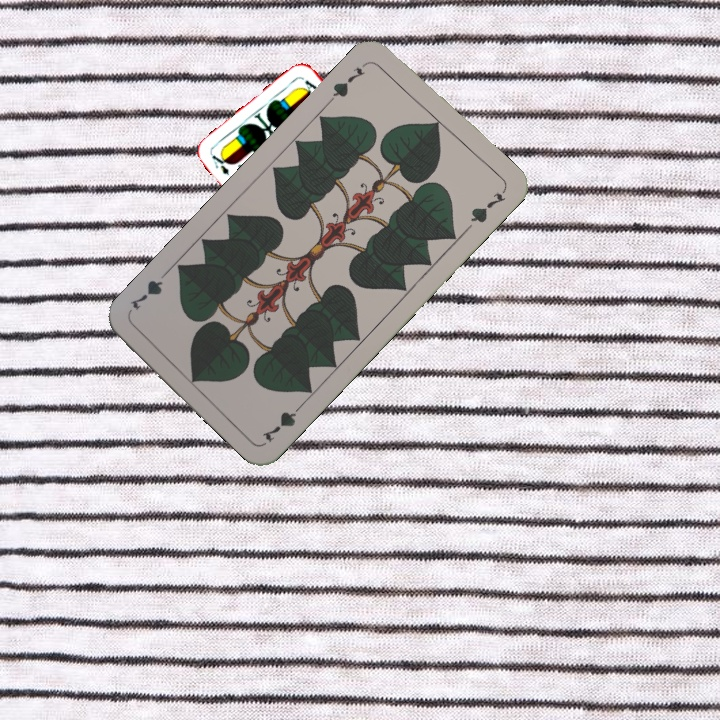EA: (208, 150, 232, 177)
G7: (258, 398, 307, 445), (325, 63, 368, 105)
